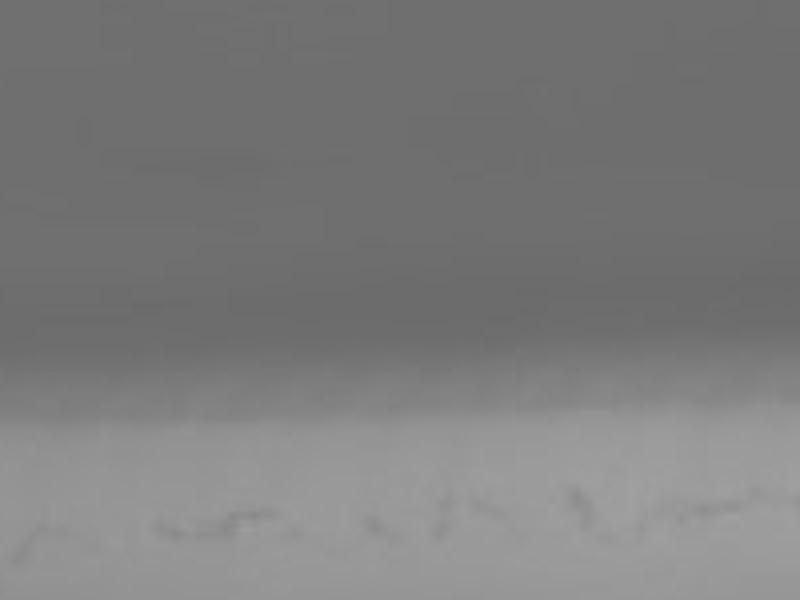defect: (430, 517, 454, 549), (244, 505, 277, 528), (216, 510, 242, 538), (718, 496, 747, 520), (687, 497, 715, 520), (567, 480, 595, 502), (467, 493, 489, 518), (434, 487, 456, 511), (577, 502, 595, 531), (365, 516, 387, 537), (744, 483, 761, 504), (671, 507, 686, 528)
